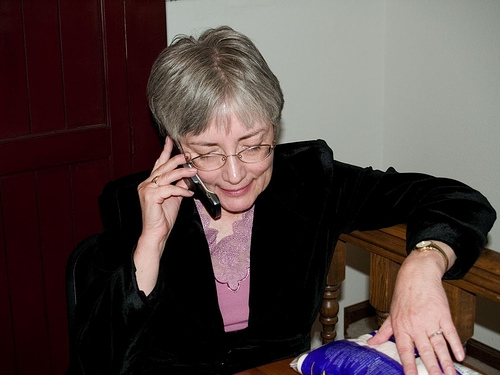phone: (157, 142, 221, 216)
talk: (136, 117, 275, 235)
